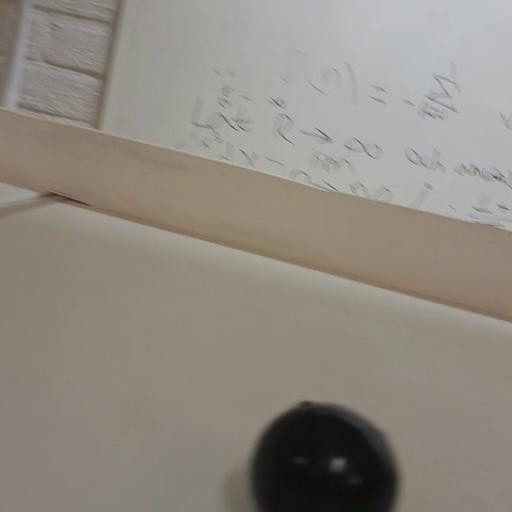dead: (250, 400, 399, 510)
